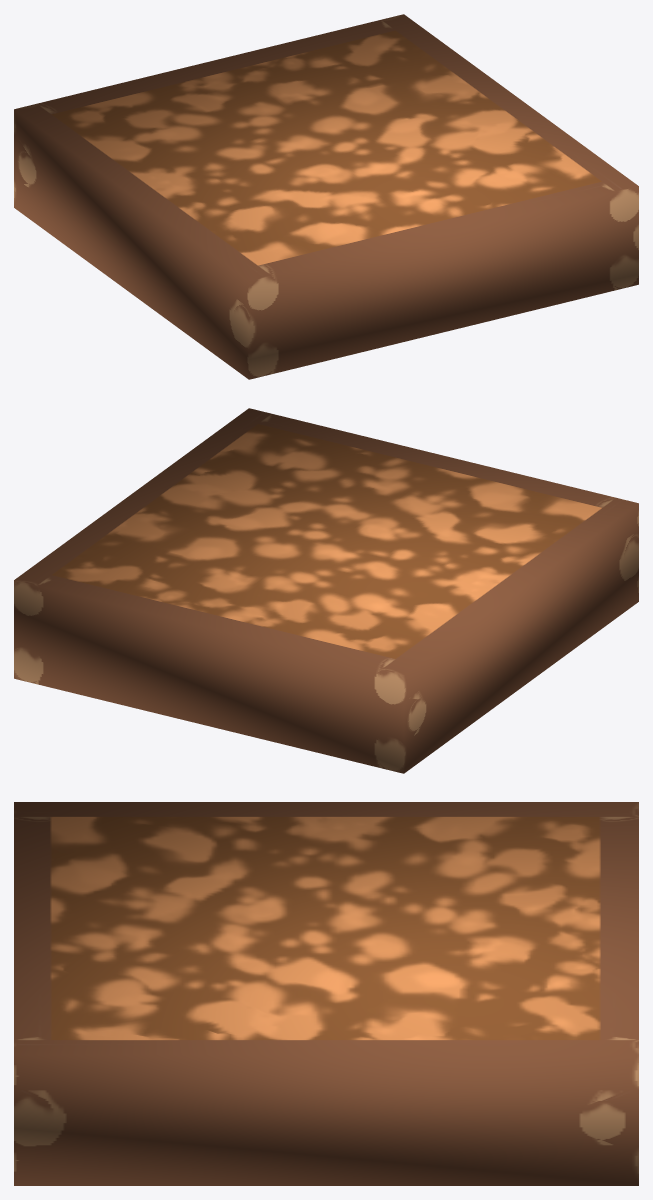
File: garden.glb
The picture shows the model from 3 angles, top to bottom: view 1: azimuth 30°, elevation 25°; view 2: azimuth 150°, elevation 25°; view 3: azimuth 270°, elevation 25°; orthographic projection. The views are drawn at different scales.
Parts seen in each view (by area): view 1: garden; view 2: garden; view 3: garden.
Part boxes in pixels (bbox=[...]): garden: bbox=[14, 14, 638, 379]; garden: bbox=[14, 408, 638, 773]; garden: bbox=[14, 802, 638, 1185].
Bounding box in the file's own units: 2.29 × 0.552 × 2.39.
1 material, 1 textured.
